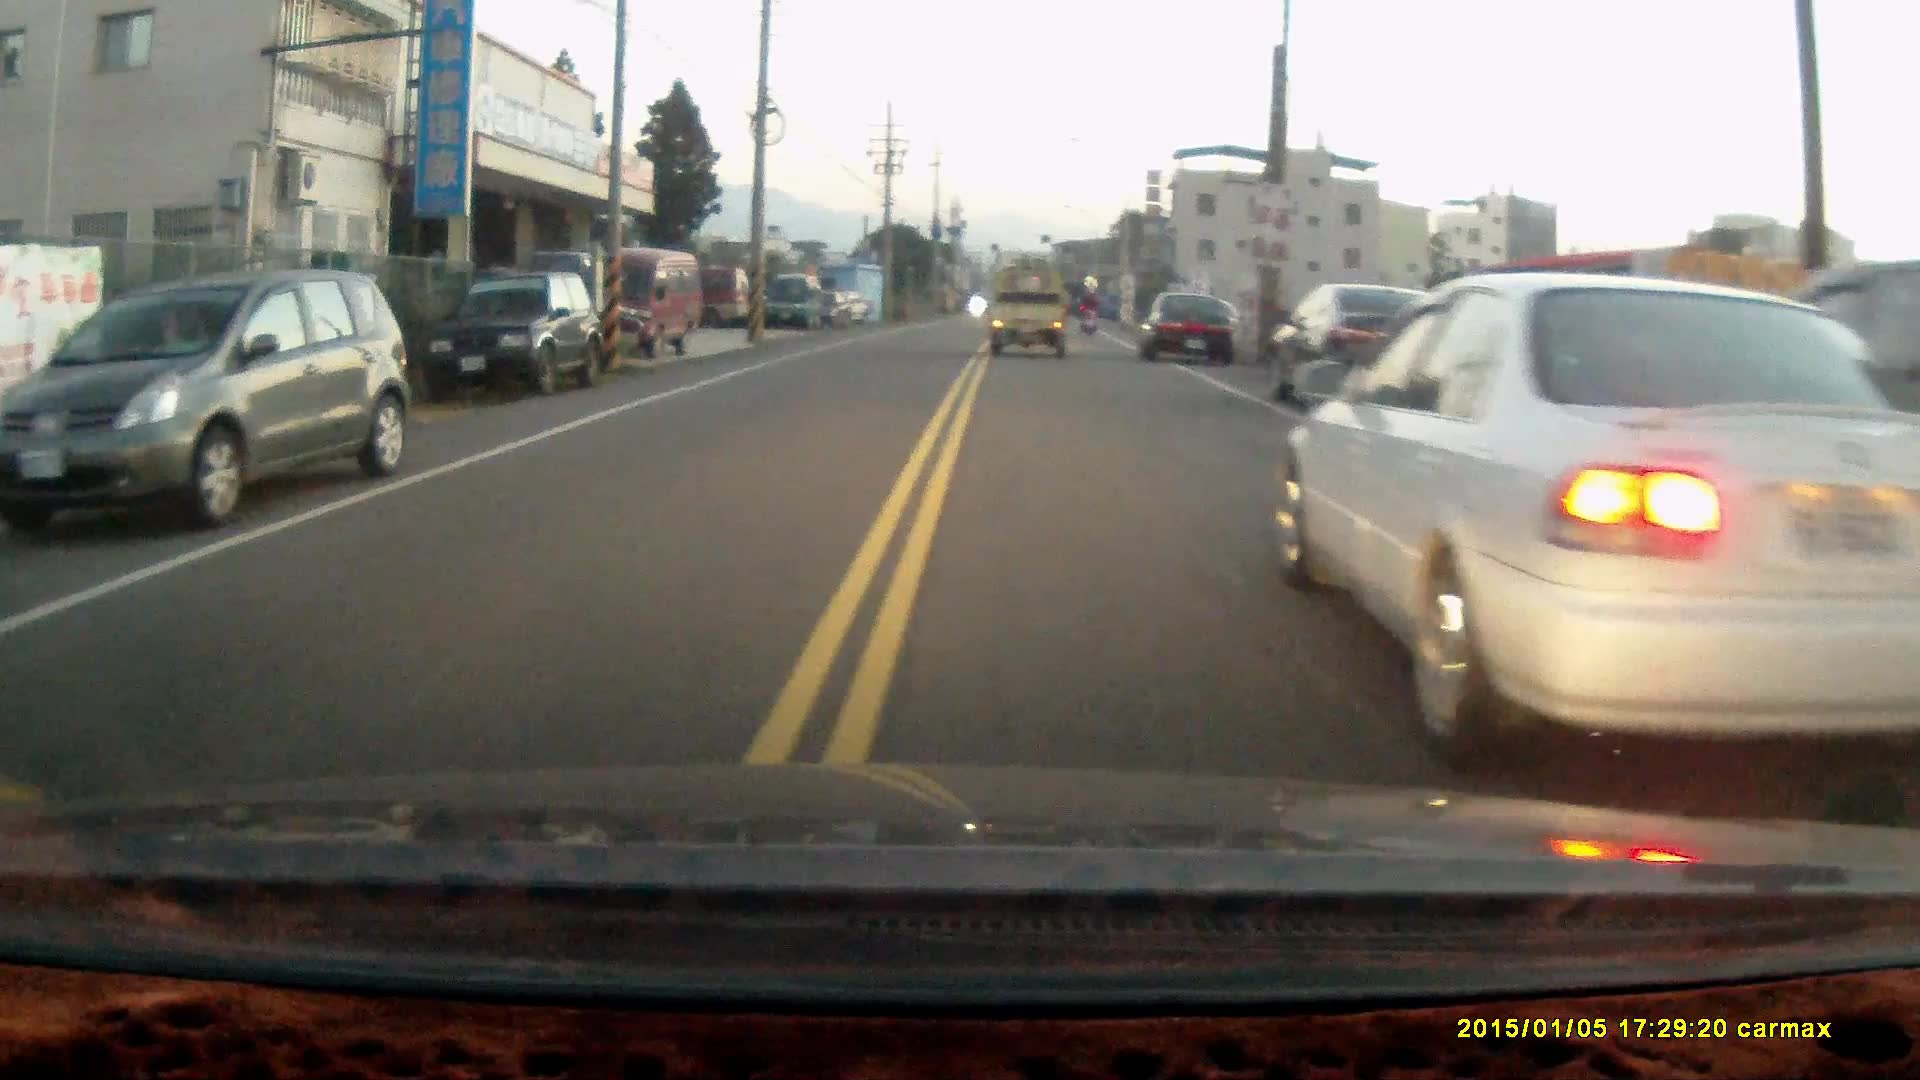rider: (1074, 291, 1100, 339)
vehicle: (1274, 265, 1920, 768), (1538, 261, 1920, 608), (1, 268, 411, 526), (1264, 282, 1470, 421), (429, 270, 605, 399), (571, 250, 703, 359), (979, 272, 1076, 358), (1138, 292, 1242, 366), (766, 273, 829, 334)
